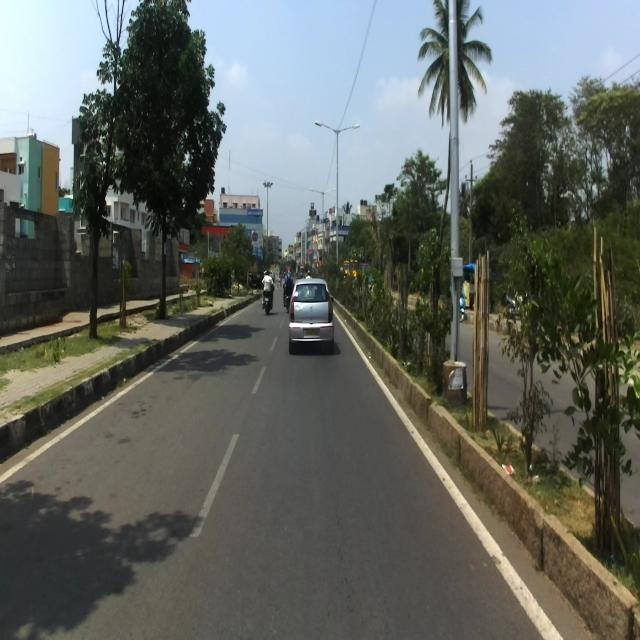car: (287, 277, 334, 353)
